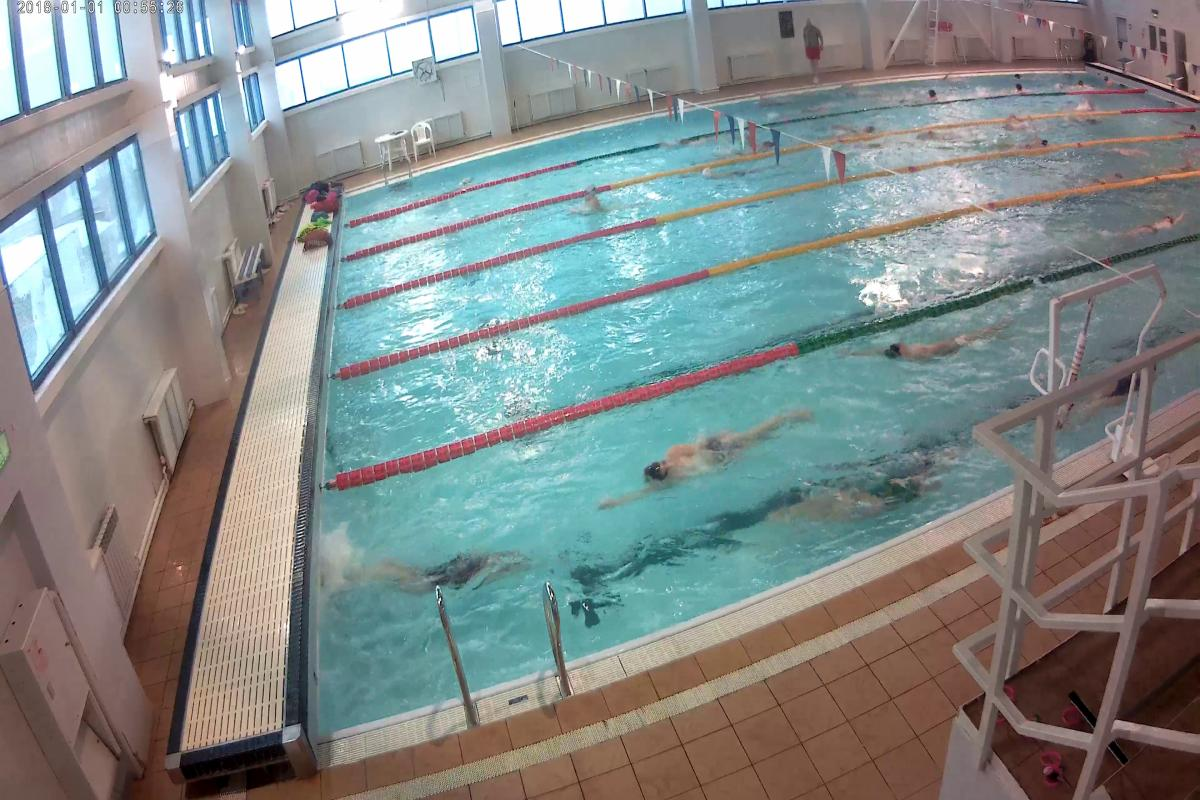swimmer: (608, 401, 824, 507), (362, 538, 528, 605), (807, 466, 946, 522), (856, 326, 1002, 376), (1116, 203, 1190, 242), (572, 178, 612, 221), (702, 161, 760, 185), (1023, 122, 1051, 154)
